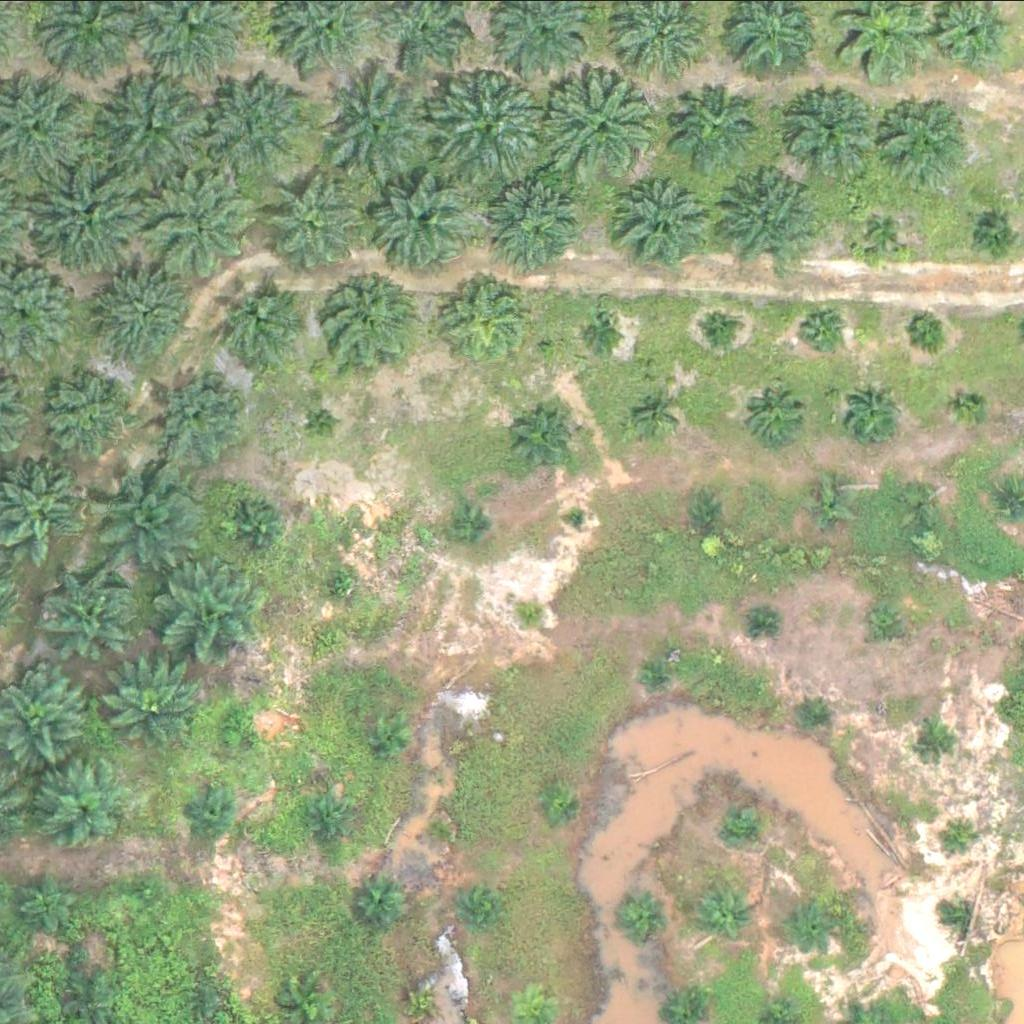Kelapa_Sawit: (25, 154, 151, 279), (89, 63, 215, 188), (426, 65, 551, 190), (545, 65, 670, 190), (98, 455, 211, 568), (203, 68, 316, 181), (321, 71, 434, 184), (148, 167, 261, 279), (100, 263, 201, 363), (254, 177, 355, 277), (371, 166, 472, 266), (490, 169, 591, 269), (618, 172, 719, 272), (209, 274, 310, 374), (315, 272, 416, 372), (436, 267, 537, 367), (163, 561, 264, 661), (720, 164, 821, 264), (103, 658, 203, 758), (46, 571, 134, 659), (878, 96, 966, 184), (786, 84, 874, 172), (673, 77, 761, 165), (43, 761, 132, 848), (154, 372, 243, 459), (47, 373, 135, 460), (517, 409, 580, 472), (11, 870, 74, 932), (844, 383, 907, 445), (360, 881, 411, 931), (618, 891, 669, 941), (231, 503, 282, 553), (747, 392, 798, 442), (804, 476, 855, 526), (389, 973, 440, 1023), (702, 886, 752, 936), (788, 900, 838, 950), (69, 971, 119, 1021), (967, 211, 1017, 261), (858, 208, 908, 258), (794, 303, 844, 353), (305, 797, 355, 847), (182, 784, 232, 834), (689, 498, 727, 536), (217, 706, 255, 744), (368, 715, 406, 753), (324, 563, 362, 601), (305, 401, 343, 439), (514, 595, 552, 633), (583, 304, 621, 342), (726, 806, 764, 843), (956, 388, 993, 426), (700, 311, 738, 348), (633, 393, 671, 430), (744, 598, 781, 636), (919, 723, 957, 760), (902, 481, 939, 519), (904, 309, 942, 346), (184, 978, 222, 1015), (129, 873, 167, 910), (453, 512, 491, 549), (414, 815, 452, 852), (943, 819, 981, 856), (464, 889, 501, 926), (792, 701, 829, 738), (870, 604, 907, 641), (537, 784, 574, 821), (635, 653, 672, 690), (949, 908, 975, 933), (563, 505, 588, 530)
